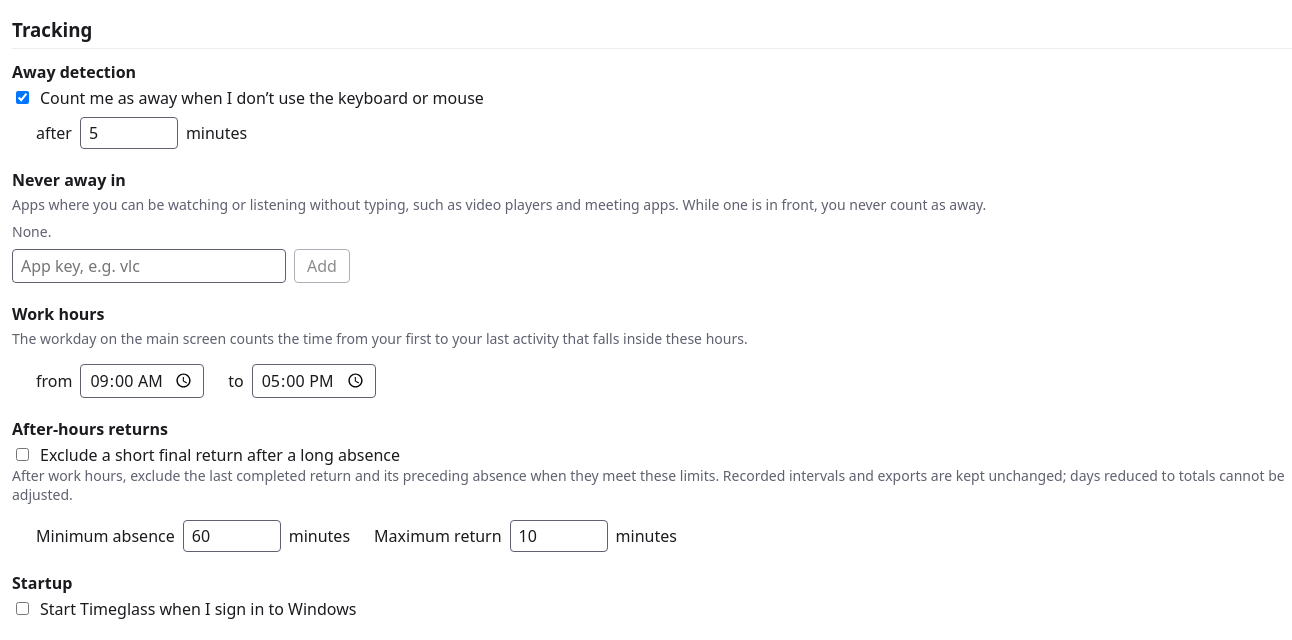
Test case: SettingsView › saves the changes and says so
Replace the text in the number field labelled "after minutes" with "2". click: coordinates (129, 133)
box: [80,117,178,149]
(page scrolled)
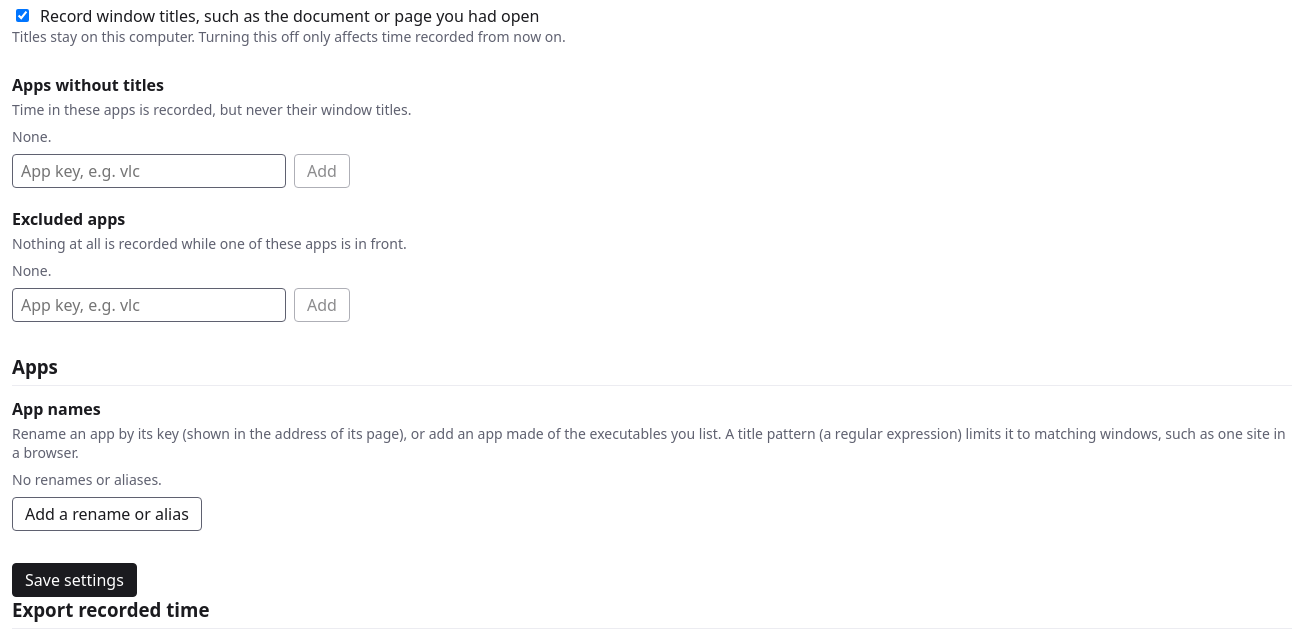
Type "keepass" into the field named "Add to excluded apps". click: coordinates (149, 305)
box: [12,288,286,322]
Then press Enter
(page scrolled)
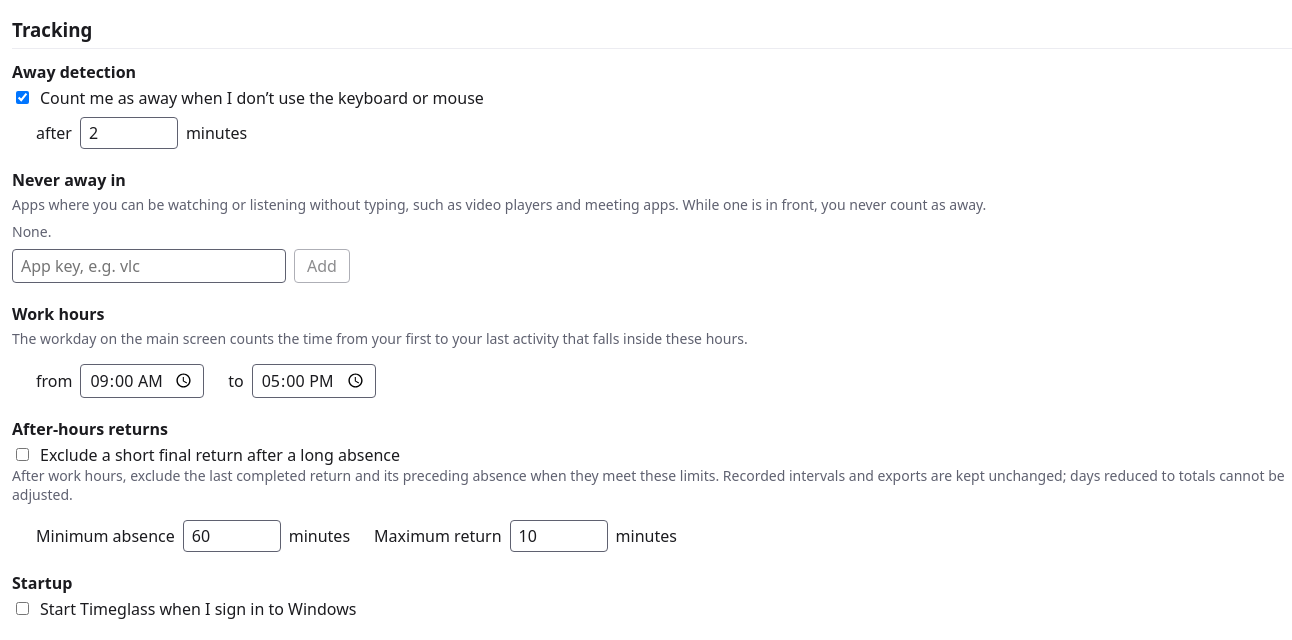
Type "vlc" into the field named "Add to never away in". click: coordinates (149, 266)
box: [12,249,286,283]
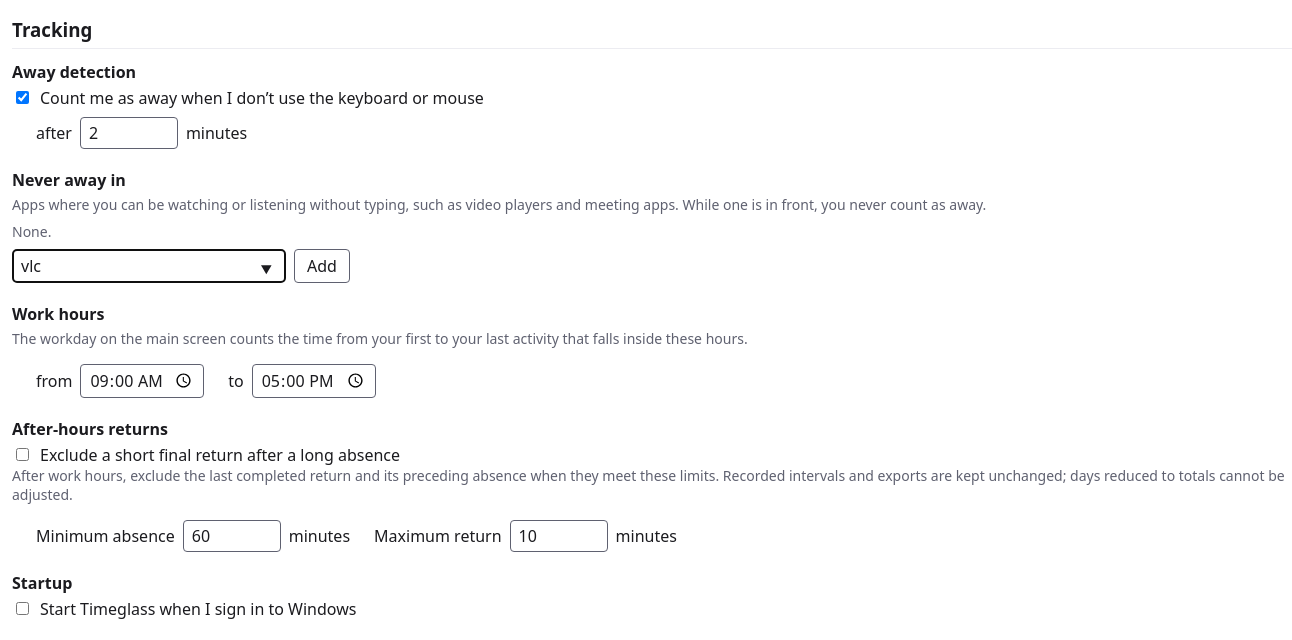
Click the button "Add". click: coordinates (322, 266)
box: [294,249,350,283]
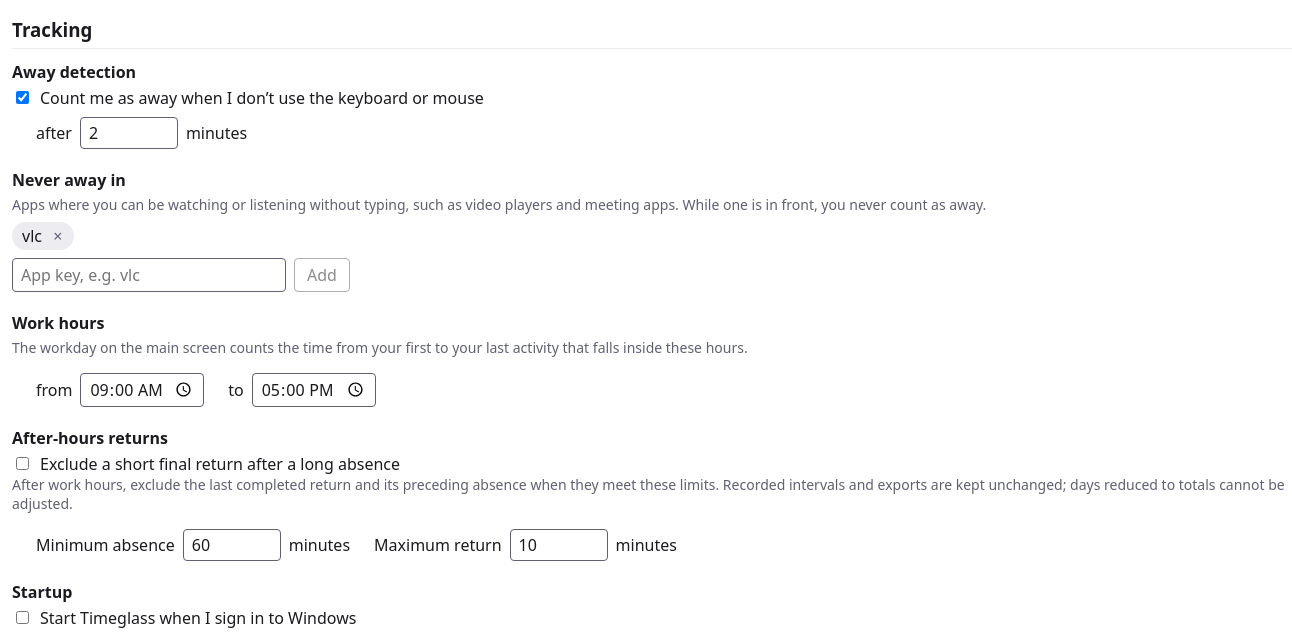
Click the checkbox labelled "Start Timeglass when I sign in to Windows". click: coordinates (22, 617)
box: [16,611,29,624]
(page scrolled)
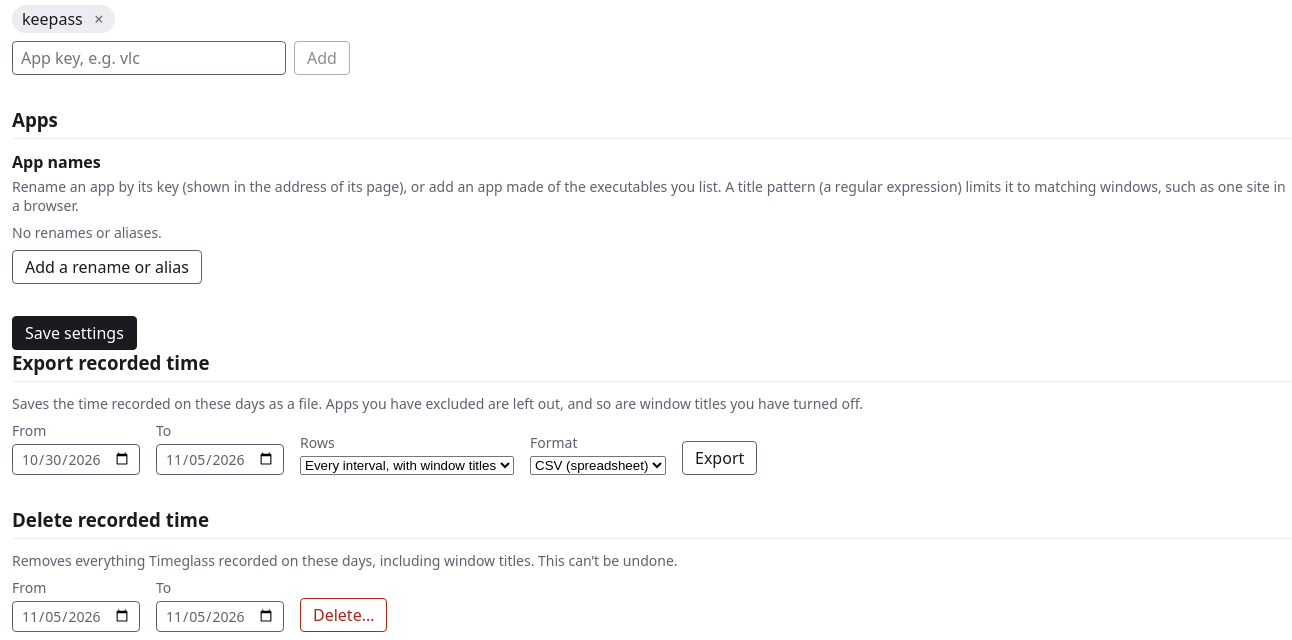
Click the button "Save settings". click: coordinates (74, 333)
box: [12,316,137,350]
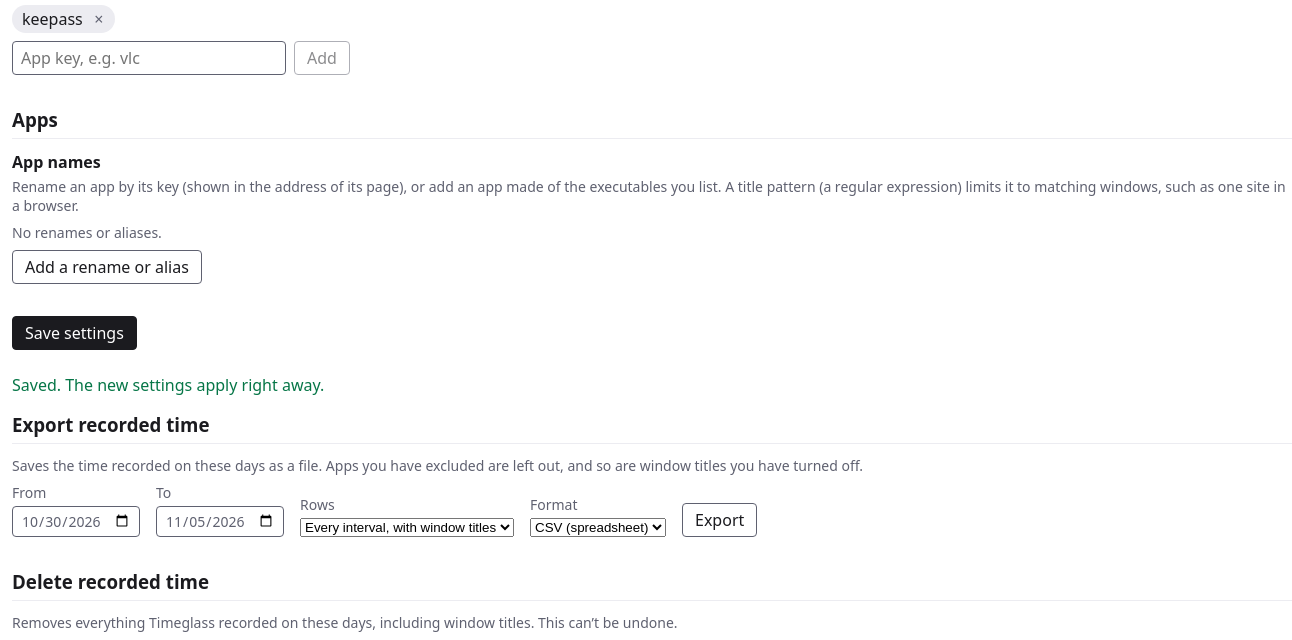
Result: the text "Saved. The new settings apply right away." is shown at [12,374,324,396]
